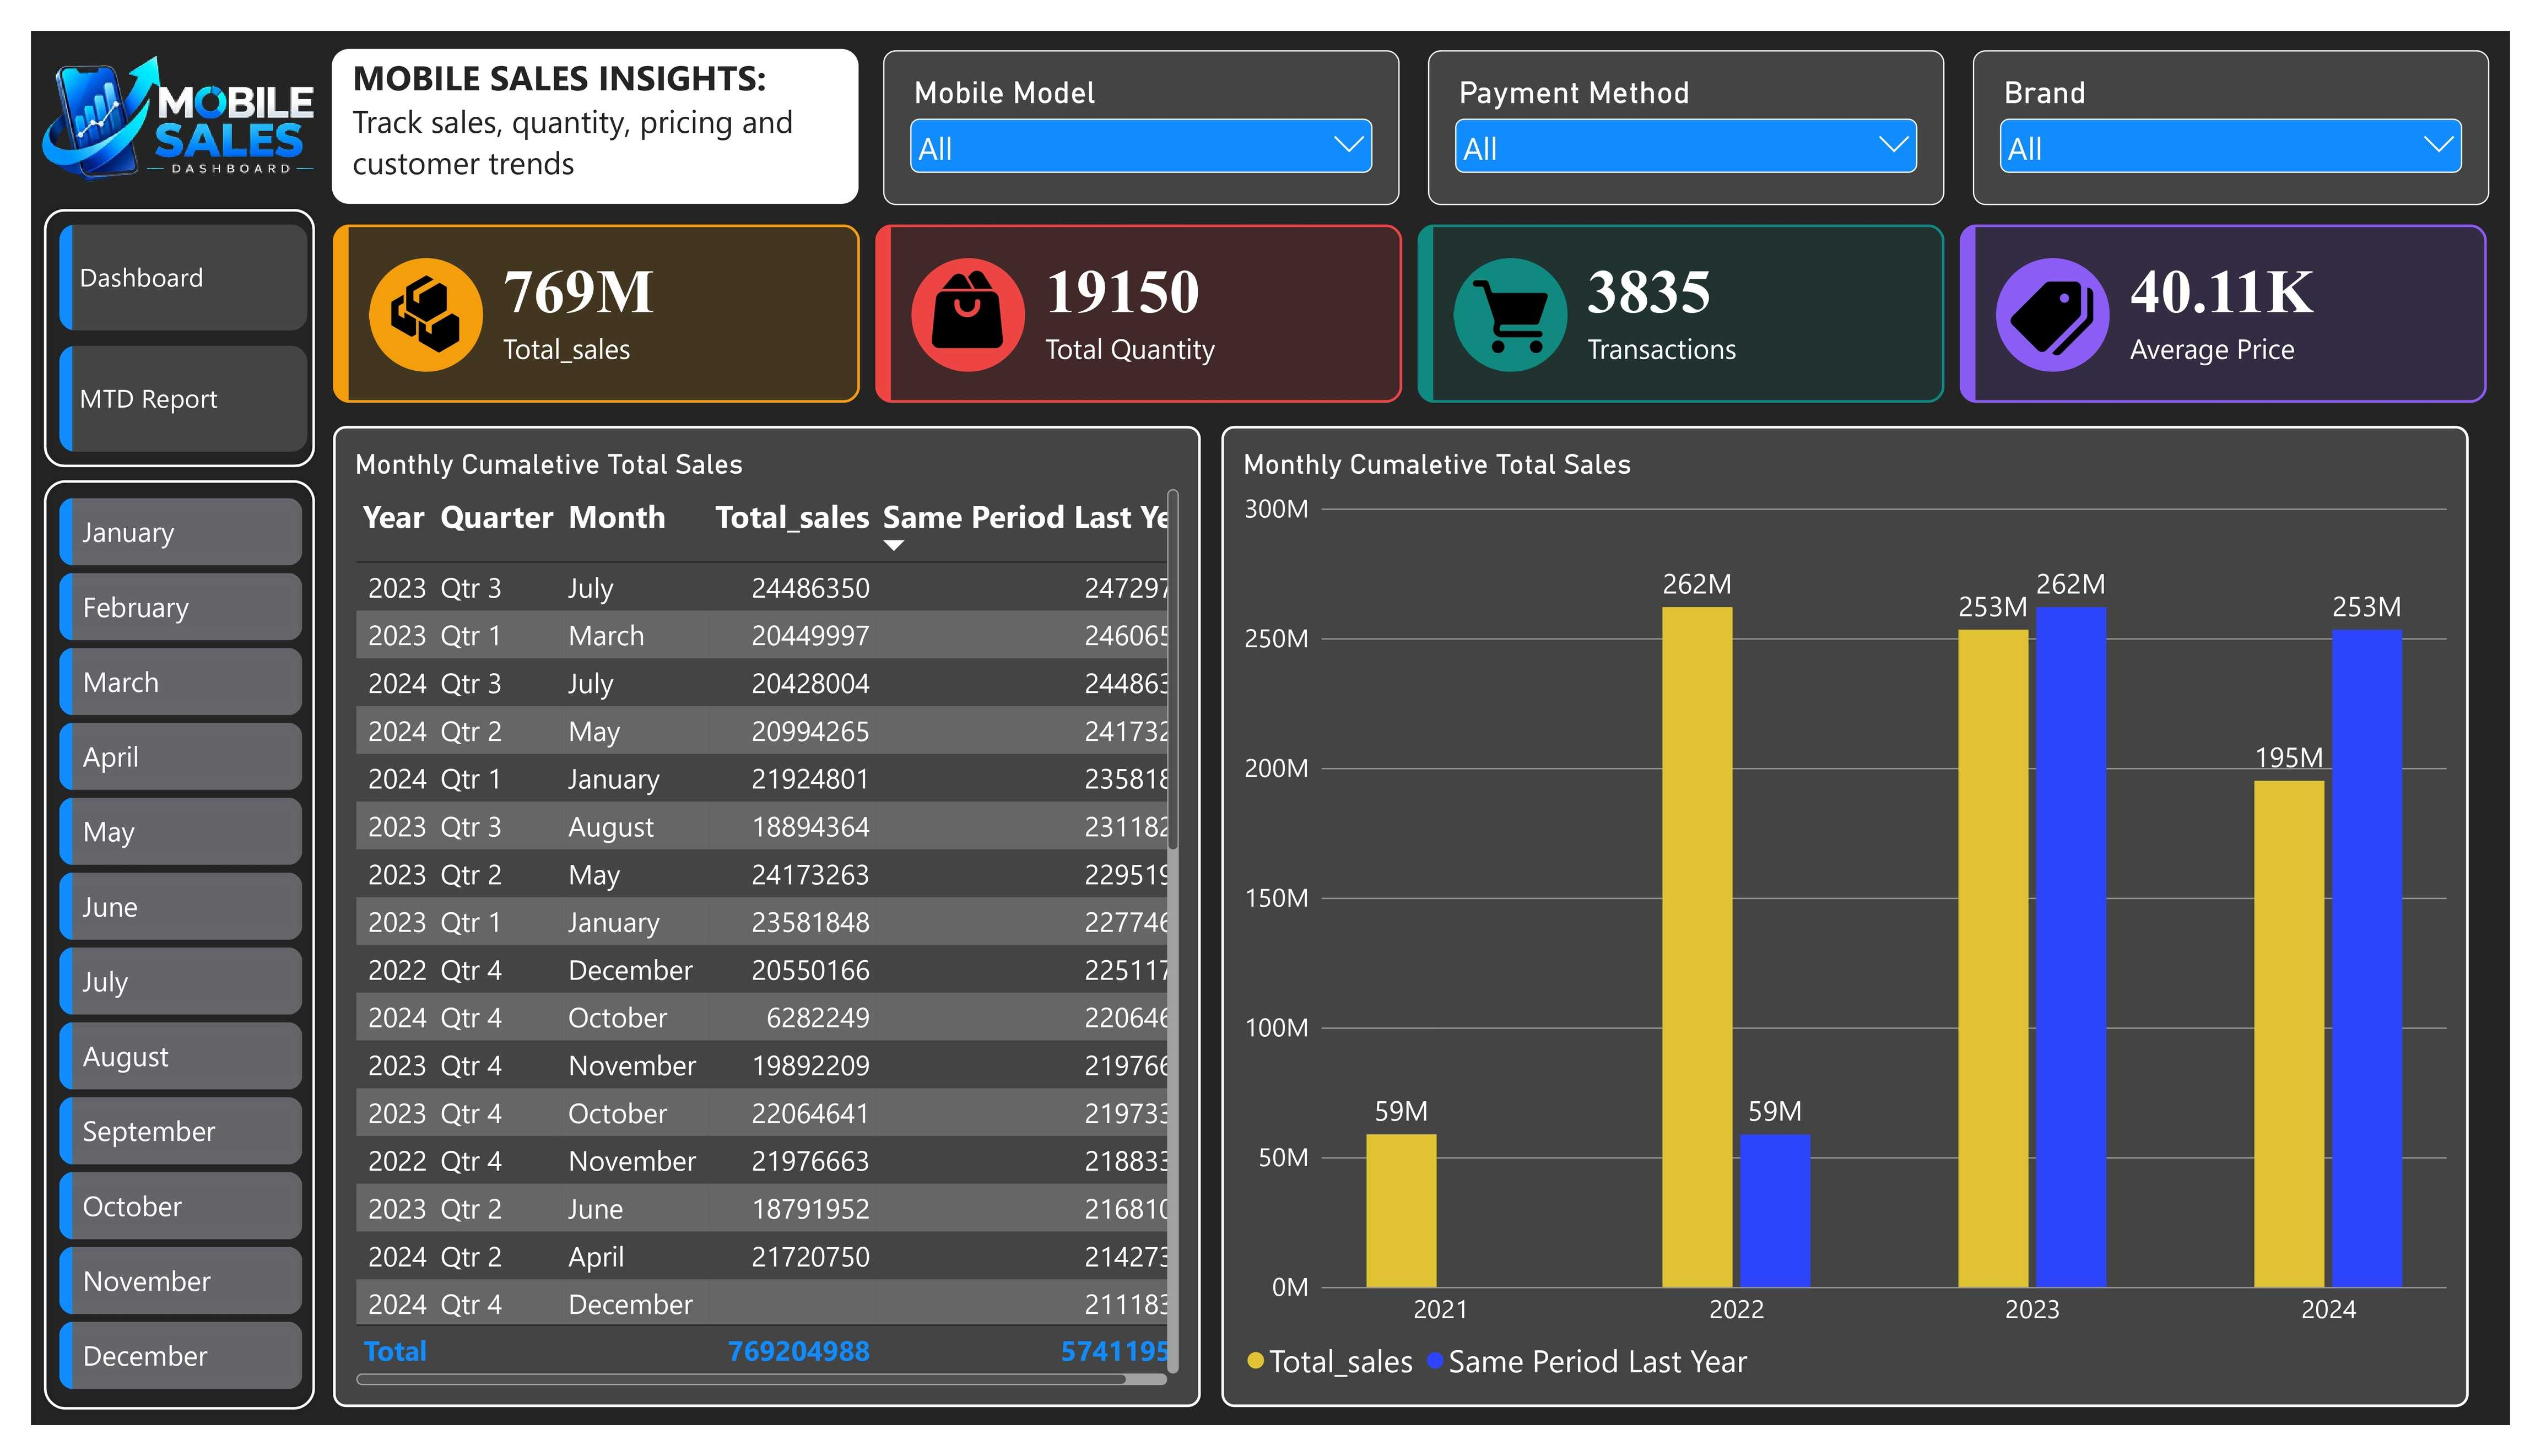

What the dashboard file says about the page in this screenshot:
{"tool":"powerbi","page":{"name":"Same Period Last Year","canvas":[1920,1080],"ordinal":2},"visuals":[{"type":"image","box":[0,0,228,130],"z":0},{"type":"shape","box":[6,134,218,208],"z":1000},{"type":"shape","box":[6,344,218,728],"z":2000},{"type":"slicer","fields":{"Values":["sales_data.Mobile Model"]},"box":[660,15.3,400,120],"z":3000},{"type":"slicer","fields":{"Values":["sales_data.Payment Method"]},"box":[1082,15.3,400,120],"z":4000},{"type":"slicer","fields":{"Values":["sales_data.Brand"]},"box":[1504,15.3,400,120],"z":5000},{"type":"cardVisual","fields":{"Data":["sales_data.Total_sales","sales_data.Total Quantity","sales_data.Transactions","sales_data.Average Price"]},"box":[234,150,1670,138],"z":6000},{"type":"advancedSlicerVisual","fields":{"Values":["custom_calendar.Date.Variation.Date Hierarchy.Month"]},"box":[22,362,188,690],"z":13000},{"type":"pageNavigator","box":[22,150,192,176],"z":14000},{"type":"shape","box":[233,13.5,408,120],"z":15000},{"type":"textbox","box":[249,16.5,376,114],"z":16000},{"type":"tableEx","title":"Monthly Cumaletive Total Sales","fields":{"Values":["custom_calendar.Date.Variation.Date Hierarchy.Year","custom_calendar.Date.Variation.Date Hierarchy.Quarter","custom_calendar.Date.Variation.Date Hierarchy.Month","sales_data.Total_sales","sales_data.Same Period Last Year"]},"box":[234,306,672,760],"z":16001},{"type":"clusteredColumnChart","title":"Monthly Cumaletive Total Sales","fields":{"Category":["custom_calendar.Date.Variation.Date Hierarchy.Year","custom_calendar.Date.Variation.Date Hierarchy.Quarter","custom_calendar.Date.Variation.Date Hierarchy.Month","custom_calendar.Date.Variation.Date Hierarchy.Day"],"Y":["sales_data.Total_sales","sales_data.Same Period Last Year"]},"box":[922,306,966,760],"z":16002}]}

Visuals, with their boxes in screenshot pixels (x1, y1, x2, y2), scaled from the page's 1920x1080 canvas onto the 2541x1456 screenshot:
image: 0,0,302,175
shape: 8,181,296,461
shape: 8,464,296,1445
slicer - sales_data.Mobile Model: 873,20,1403,182
slicer - sales_data.Payment Method: 1432,20,1961,182
slicer - sales_data.Brand: 1991,20,2520,182
cardVisual - sales_data.Total_sales x sales_data.Total Quantity: 310,202,2520,388
advancedSlicerVisual - custom_calendar.Date.Variation.Date Hierarchy.Month: 29,488,278,1418
pageNavigator: 29,202,283,440
shape: 309,18,848,180
textbox: 329,22,827,176
"Monthly Cumaletive Total Sales" tableEx: 310,413,1199,1437
"Monthly Cumaletive Total Sales" clusteredColumnChart: 1220,413,2499,1437
